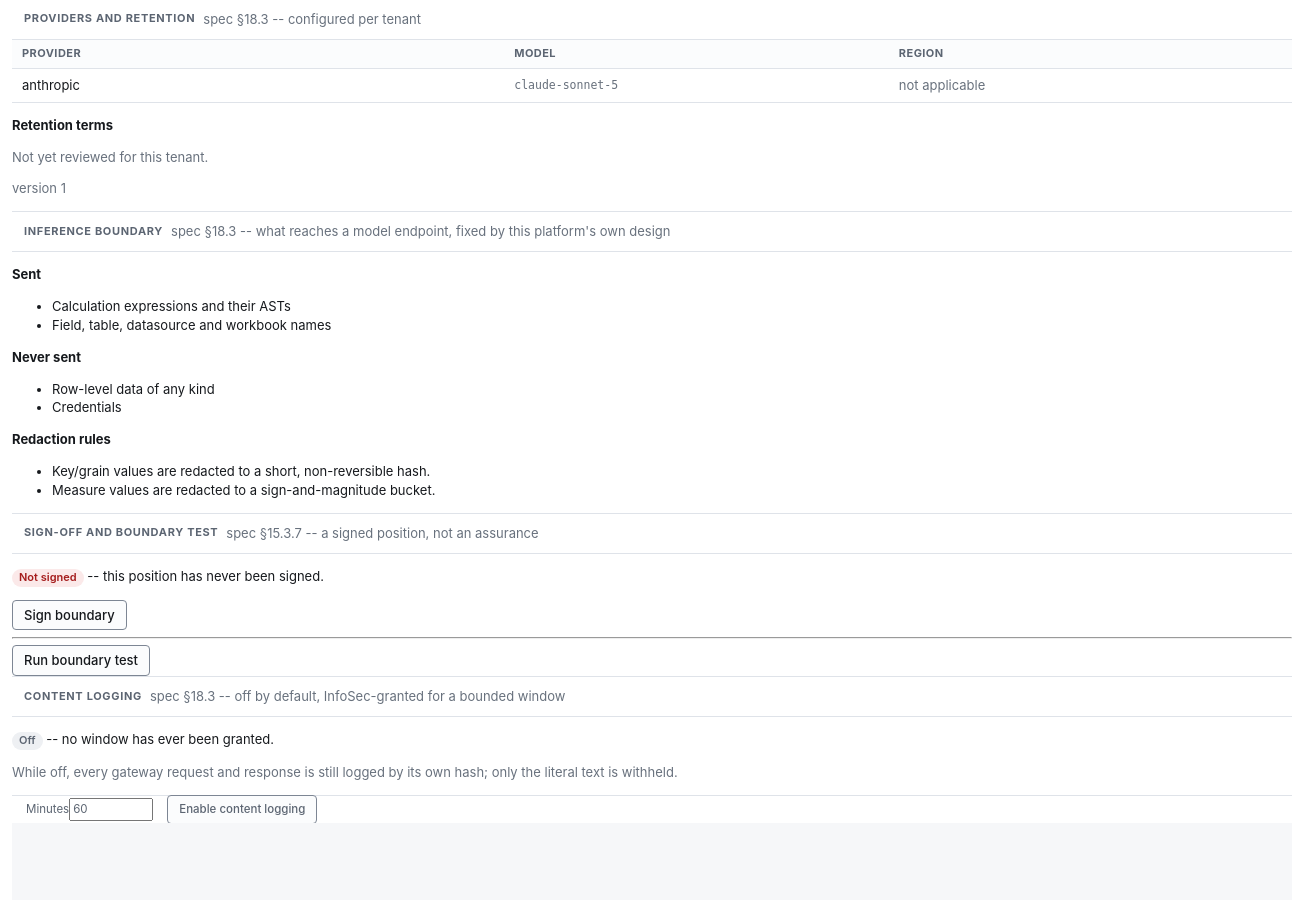
Test: the boundary test › runs on demand and shows a real pass
Check: the text "anthropic" is shown, box [12,68,504,102]
Click the button "Run boundary test" at (81, 661), box [12,645,150,676]
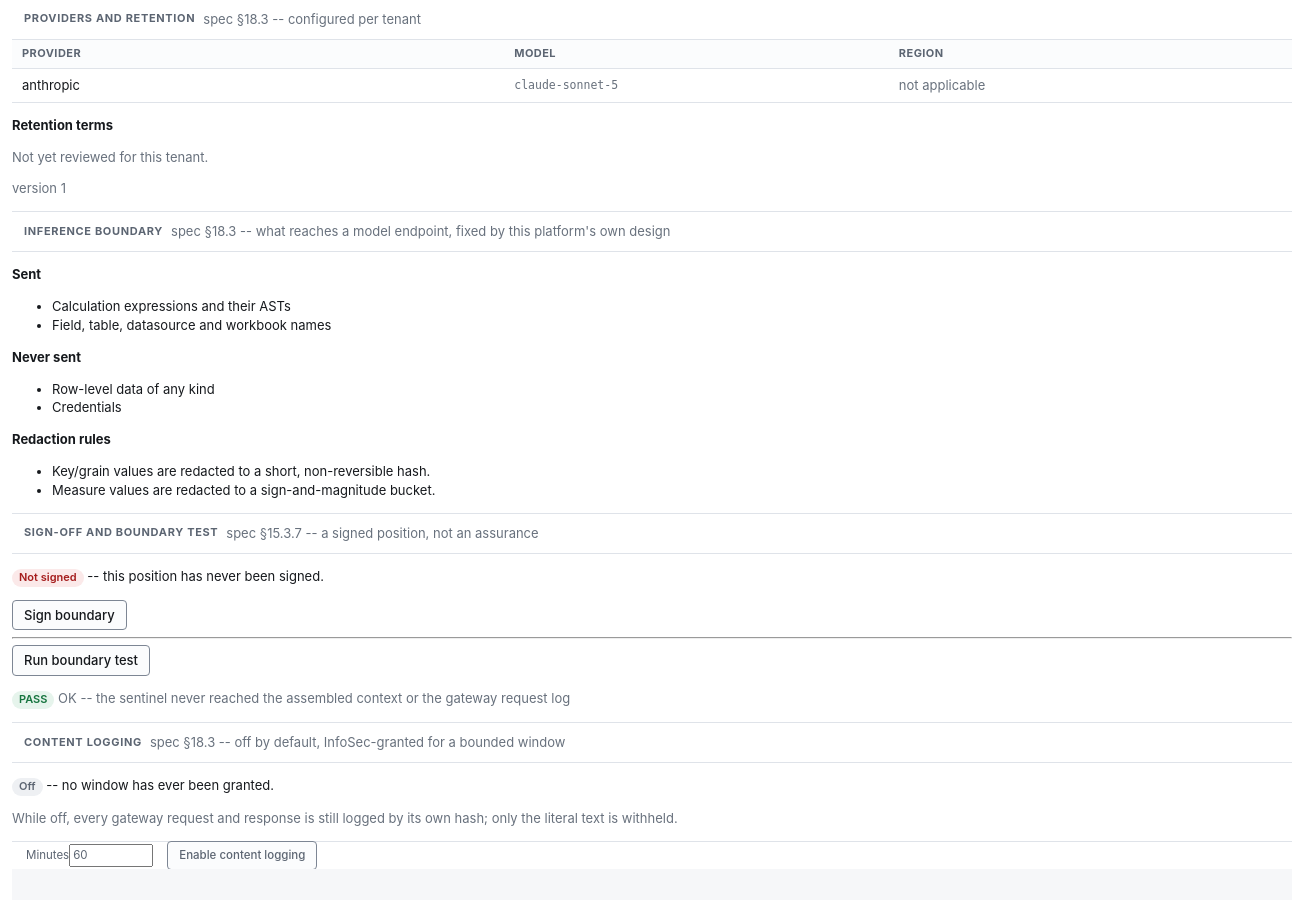
Check: the text "PASS" is shown, box [12,691,54,709]
Check: the text "never reached the assembled context" is shown, box [58,690,570,706]
